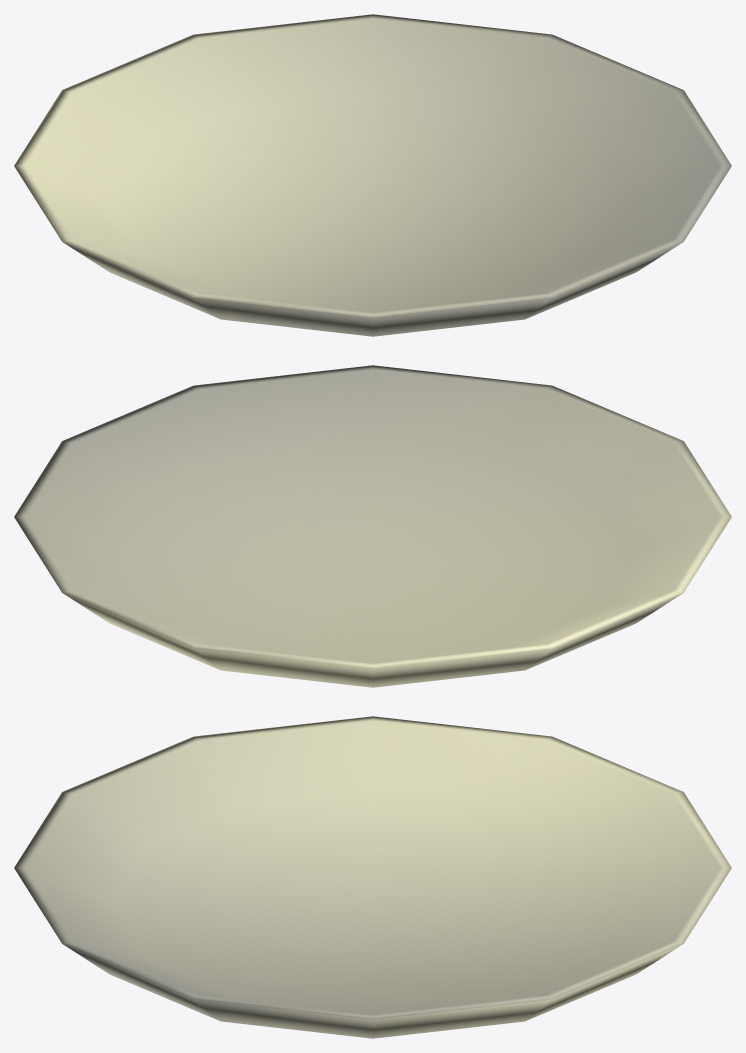
The model's file is object_dishes_plate02.fbx.
3 views of the same model, one above another, from view 1: azimuth 30°, elevation 25°; view 2: azimuth 150°, elevation 25°; view 3: azimuth 270°, elevation 25° (orthographic).
Visible parts, largest first — view 1: object_dishes_plate02; view 2: object_dishes_plate02; view 3: object_dishes_plate02.
Part boxes in pixels (bbox=[...]): object_dishes_plate02: bbox=[14, 14, 731, 336]; object_dishes_plate02: bbox=[14, 365, 731, 687]; object_dishes_plate02: bbox=[14, 716, 731, 1038].
Size of the model in its own units: 0.2849 by 0.2849 by 0.0185.
